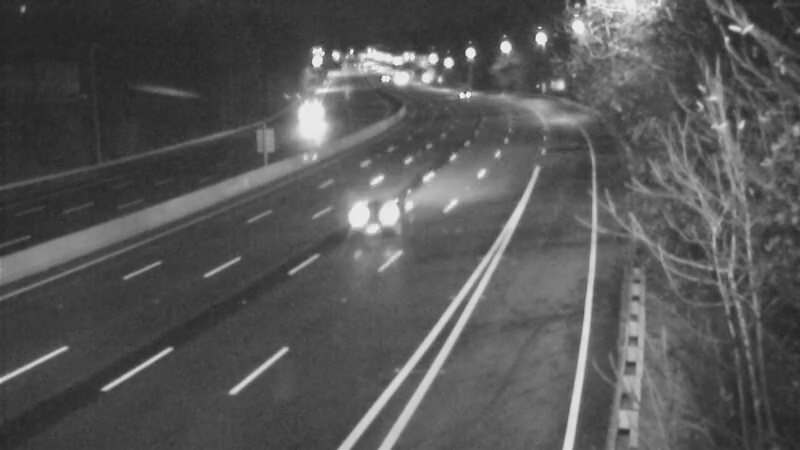vehicle: (343, 182, 423, 262), (438, 70, 488, 120), (283, 89, 333, 139)
